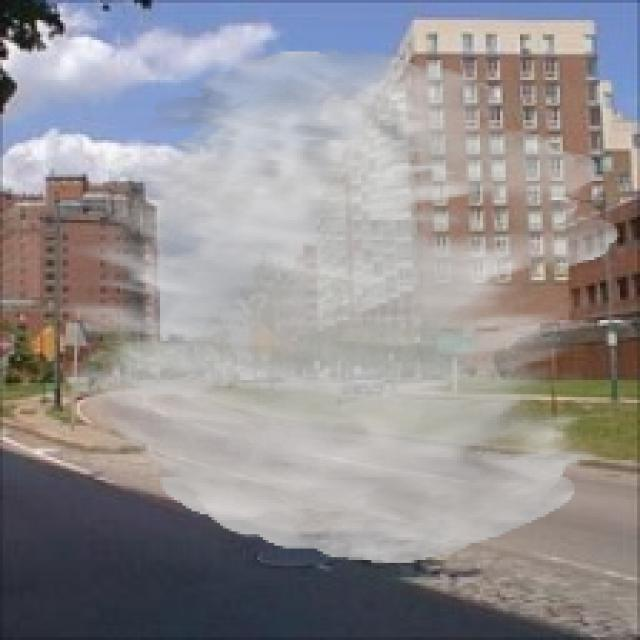smoke: (57, 48, 620, 563)
